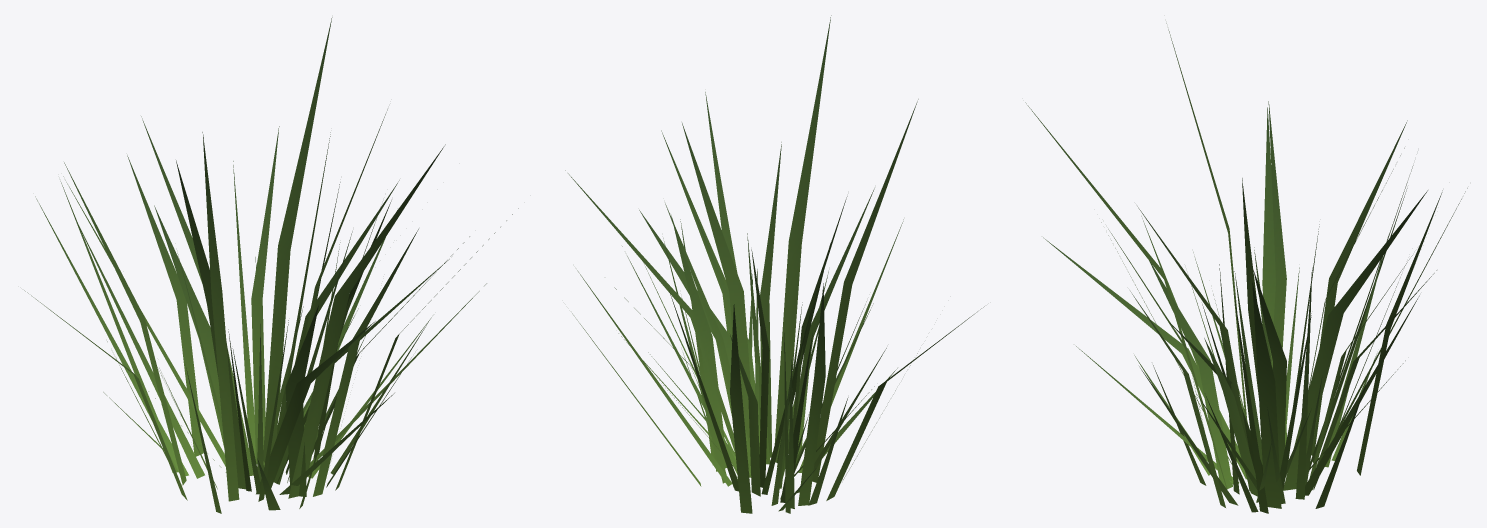
File: forest_grass_001_b_LOD1.gltf
3 renders of one model, left to right at view 1: azimuth 30°, elevation 25°; view 2: azimuth 150°, elevation 25°; view 3: azimuth 270°, elevation 25°, orthographic. The views are drawn at different scales.
Visible parts, largest first — view 1: forest_grass_001_b_LOD1; view 2: forest_grass_001_b_LOD1; view 3: forest_grass_001_b_LOD1.
Part boxes in pixels (<box>): forest_grass_001_b_LOD1: <box>24,17,518,513</box>; forest_grass_001_b_LOD1: <box>565,15,984,513</box>; forest_grass_001_b_LOD1: <box>1025,23,1467,513</box>.
Size of the model in its own units: 0.9629 by 0.8668 by 0.8565.
Materials: 1 (1 with a texture image).
